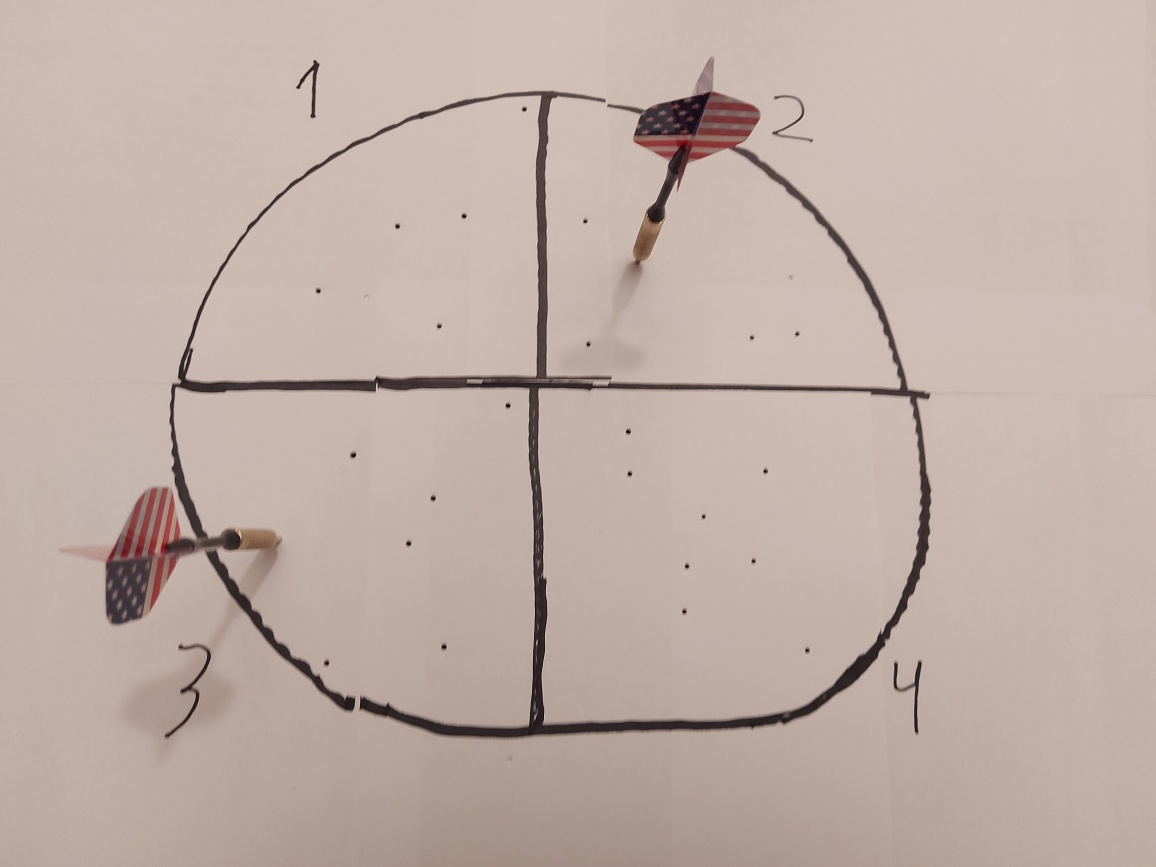Dart: (48, 475, 297, 631), (614, 47, 765, 281)
